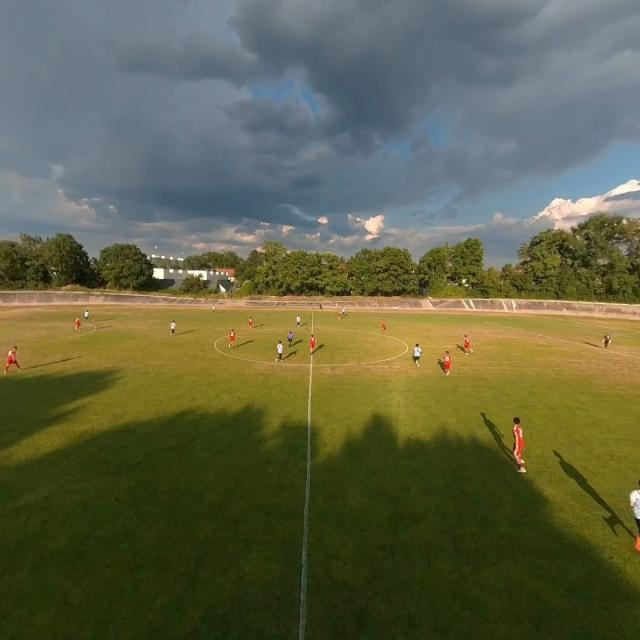ball: (92, 318, 95, 323)
